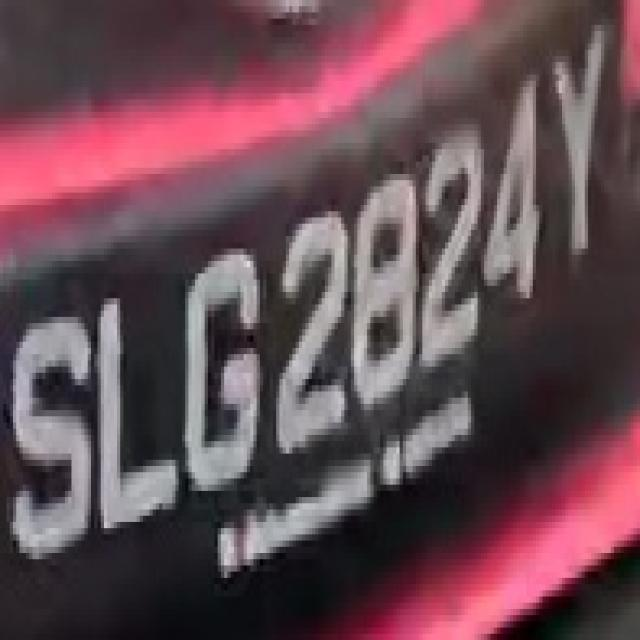2: (419, 106, 494, 379), (273, 211, 357, 454)
4: (481, 56, 549, 335)
8: (351, 149, 419, 404)
G: (172, 242, 260, 503)
L: (94, 298, 176, 534)
S: (10, 298, 94, 578)
Y: (546, 25, 614, 267)
